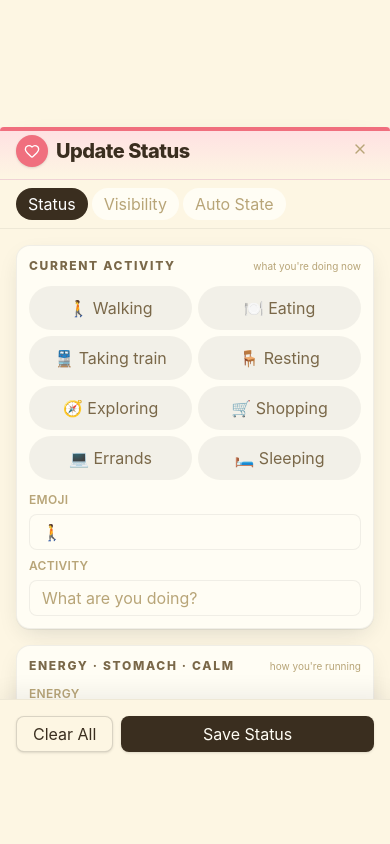
TravelerStateSheet — State tab › shows a rate-limit error in role=alert when save fails
The image size is (390, 844).
Click the button "Save Status". click: (248, 734)
box: x1=121 y1=716 x2=374 y2=752
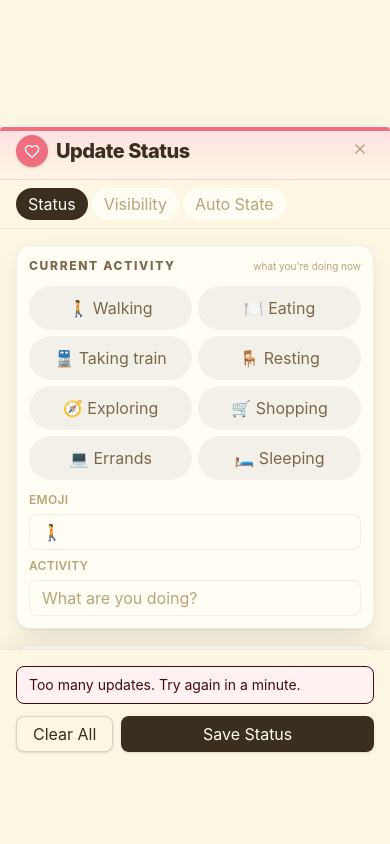
Expected: the message shows "Too many updates", x1=29 y1=676 x2=301 y2=693
